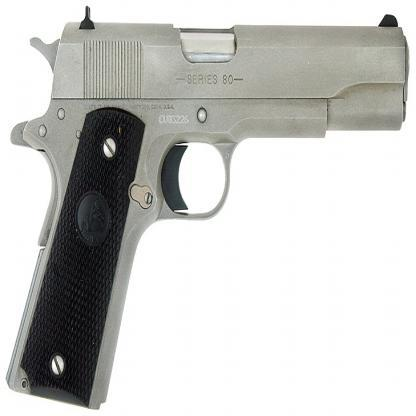gun: (5, 6, 413, 409)
